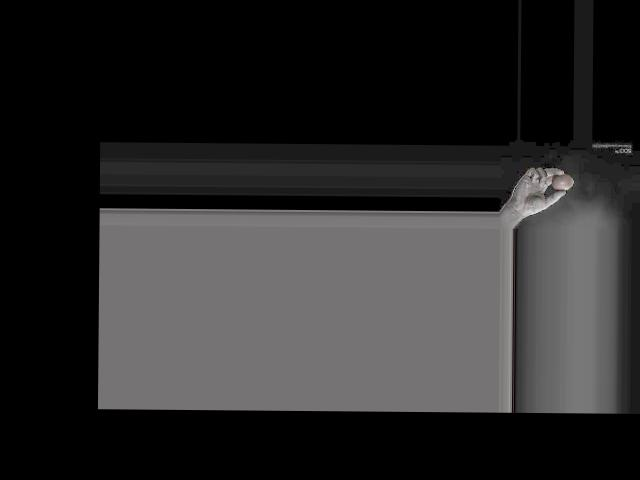egg: (550, 174, 572, 190)
